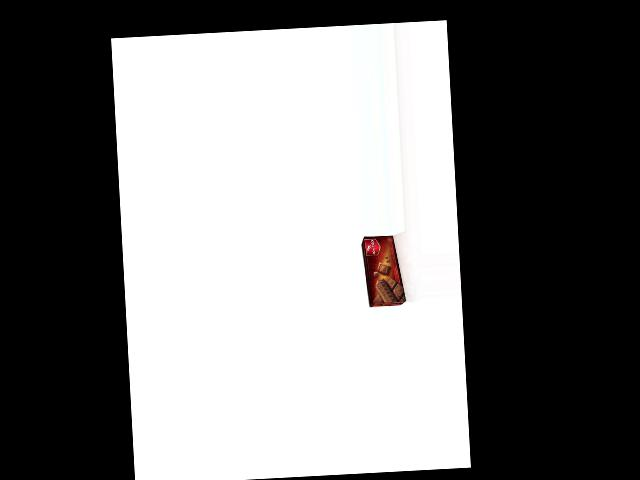chocolate: (360, 234, 407, 306)
